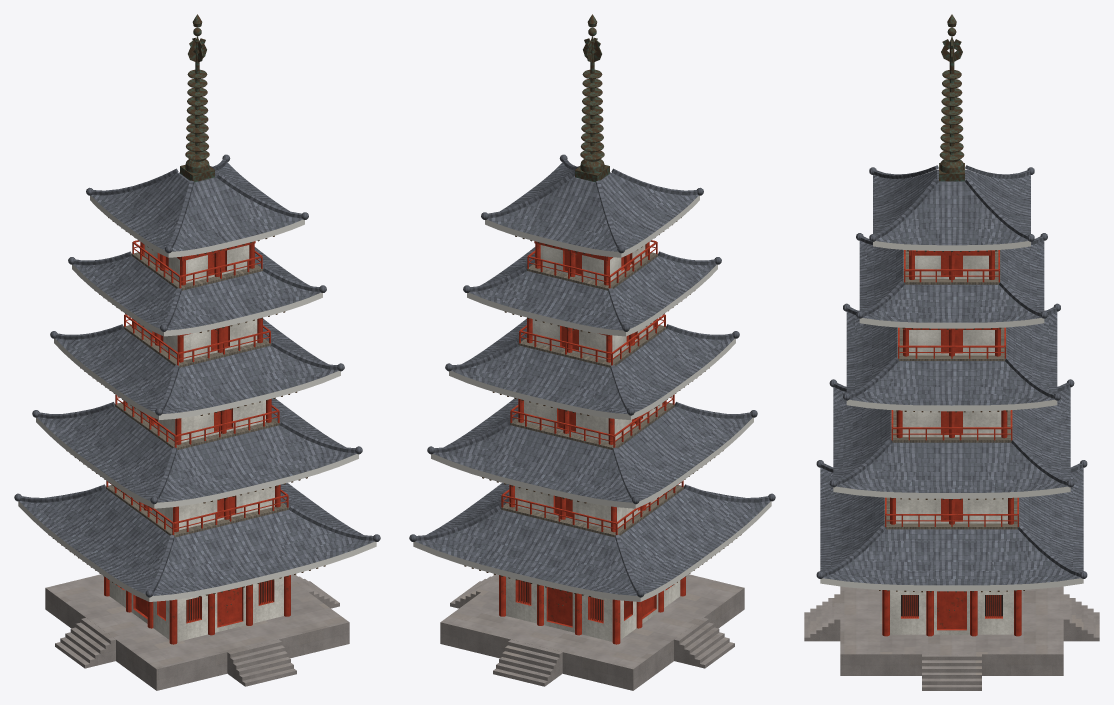
The model's file is innerscene-buddhist-temple-pagoda-c5ebacdc.glb.
3 views of the same model, side by side, from view 1: azimuth 30°, elevation 25°; view 2: azimuth 150°, elevation 25°; view 3: azimuth 270°, elevation 25° (orthographic).
Parts seen in each view (by area): view 1: Roofs, Platform, Storey walls, Balconies, Roof ridges, Columns, Finial, Doors, Lattices; view 2: Roofs, Platform, Storey walls, Balconies, Roof ridges, Columns, Finial, Doors, Lattices; view 3: Roofs, Platform, Storey walls, Balconies, Roof ridges, Columns, Finial, Doors, Lattices, Beams.
Part boxes in pixels (x1=…): Roofs: x1=18, y1=162, x2=376, y2=601; Platform: x1=45, y1=574, x2=349, y2=690; Storey walls: x1=109, y1=245, x2=283, y2=641; Balconies: x1=106, y1=240, x2=288, y2=537; Roof ridges: x1=14, y1=154, x2=380, y2=597; Columns: x1=104, y1=241, x2=290, y2=644; Finial: x1=180, y1=14, x2=214, y2=182; Doors: x1=135, y1=251, x2=241, y2=626; Lattices: x1=159, y1=580, x2=271, y2=622; Roofs: x1=413, y1=162, x2=771, y2=601; Platform: x1=440, y1=574, x2=744, y2=690; Storey walls: x1=506, y1=245, x2=680, y2=641; Balconies: x1=501, y1=240, x2=683, y2=537; Roof ridges: x1=409, y1=154, x2=775, y2=597; Columns: x1=499, y1=241, x2=685, y2=644; Finial: x1=575, y1=14, x2=609, y2=182; Doors: x1=548, y1=251, x2=654, y2=626; Lattices: x1=518, y1=580, x2=630, y2=622; Roofs: x1=820, y1=169, x2=1083, y2=591; Platform: x1=804, y1=586, x2=1099, y2=690; Storey walls: x1=890, y1=255, x2=1013, y2=634; Balconies: x1=884, y1=250, x2=1019, y2=529; Roof ridges: x1=816, y1=165, x2=1087, y2=578; Columns: x1=882, y1=250, x2=1021, y2=636; Finial: x1=939, y1=14, x2=964, y2=181; Doors: x1=937, y1=255, x2=966, y2=628; Lattices: x1=902, y1=595, x2=1001, y2=617; Beams: x1=903, y1=250, x2=1000, y2=329.
Bounding box in the file's own units: 14.8 × 34 × 14.8.
Materials: 9 (9 with a texture image).
